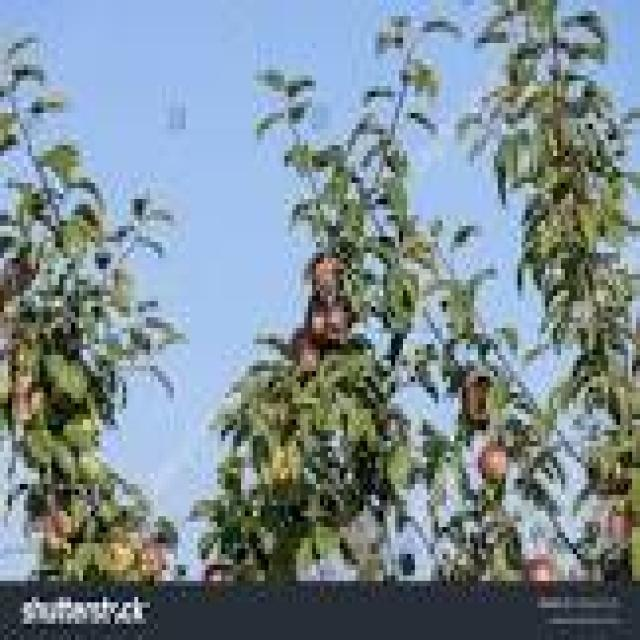apple: (308, 253, 340, 296), (479, 442, 509, 484), (525, 554, 553, 575)
